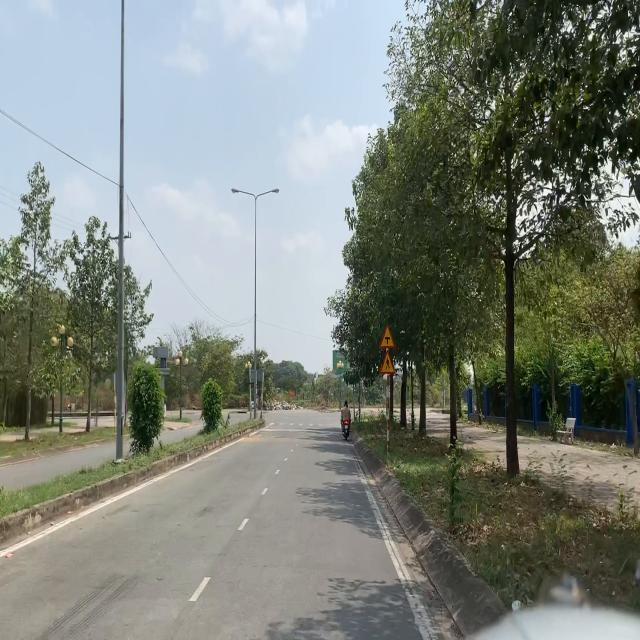Duong giao nhau: (379, 323, 397, 350)
Nguoi di bo cat ngang: (379, 351, 396, 374)
